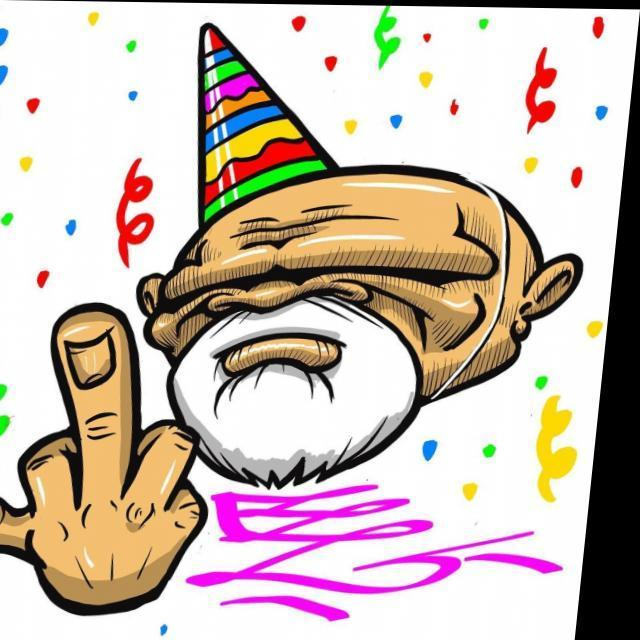-: (0, 12, 613, 638)
